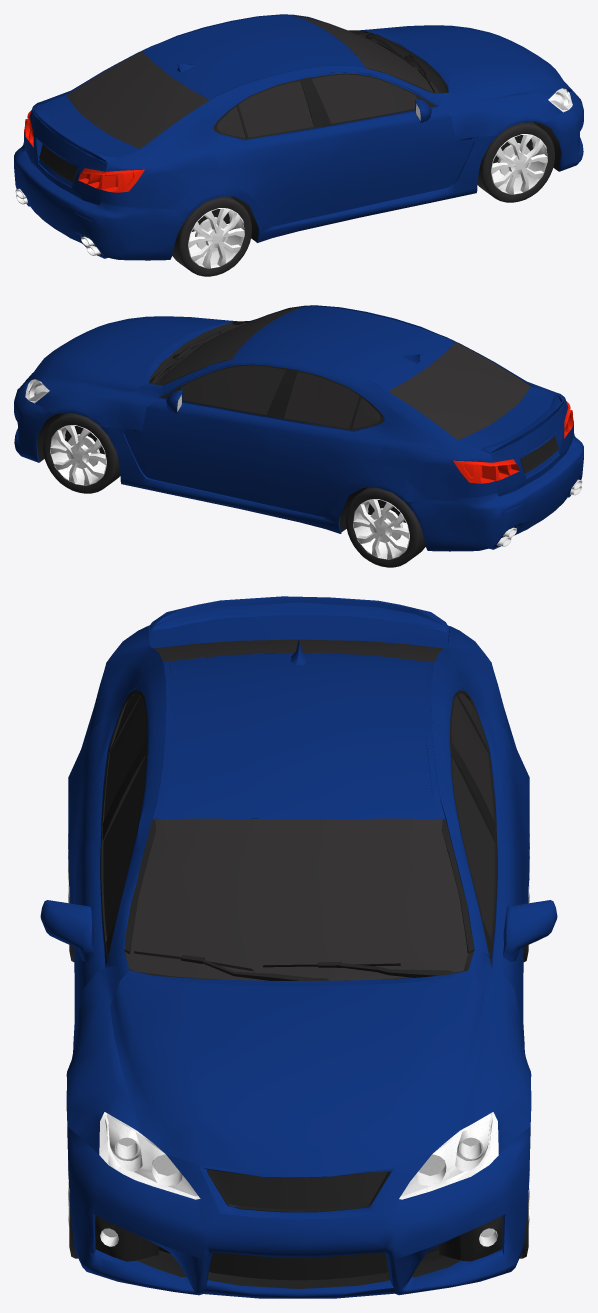
Rendered from sm_lexus_car_lod_2.fbx.
3 renders of one model, top to bottom at view 1: azimuth 30°, elevation 25°; view 2: azimuth 150°, elevation 25°; view 3: azimuth 270°, elevation 25°, orthographic. The views are drawn at different scales.
Parts seen in each view (by area): view 1: lod_2; view 2: lod_2; view 3: lod_2.
Boxes of the visible parts, left/top/right/bottom form: lod_2: left=14, top=14, right=583, bottom=276; lod_2: left=14, top=305, right=583, bottom=567; lod_2: left=40, top=596, right=557, bottom=1298.
Bounding box in the file's own units: 4.96 × 1.53 × 2.14.
6 materials, 6 textured.
